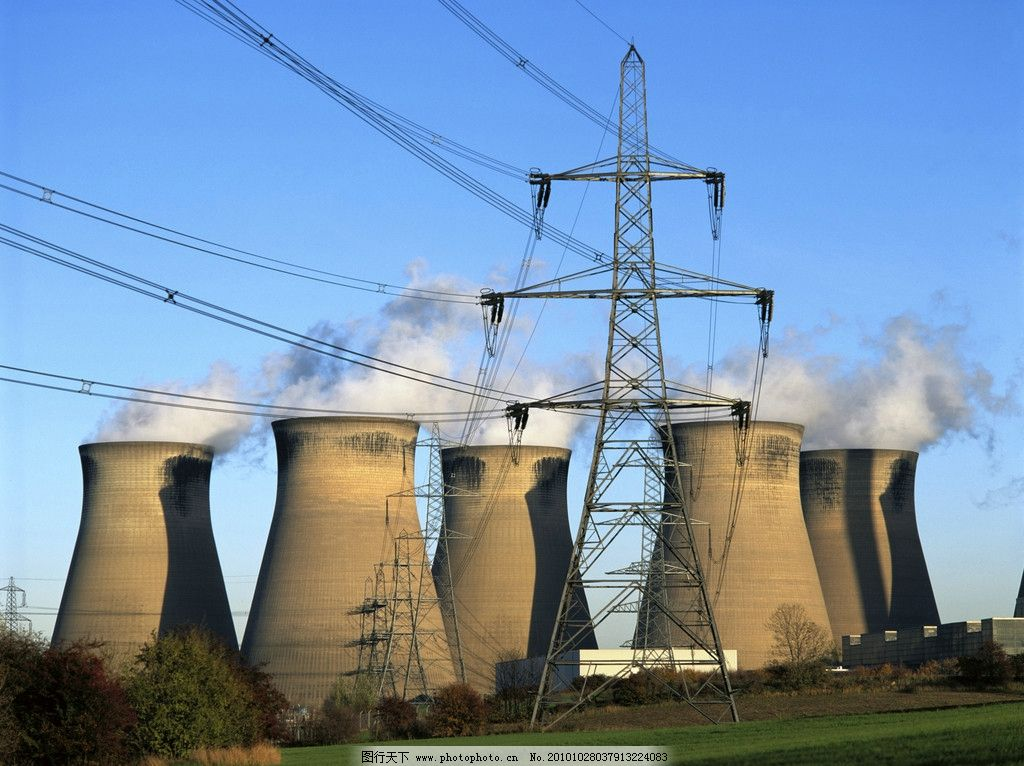dust: (776, 311, 1010, 464), (236, 312, 468, 434), (631, 327, 832, 439), (407, 354, 625, 456), (55, 354, 258, 455)
